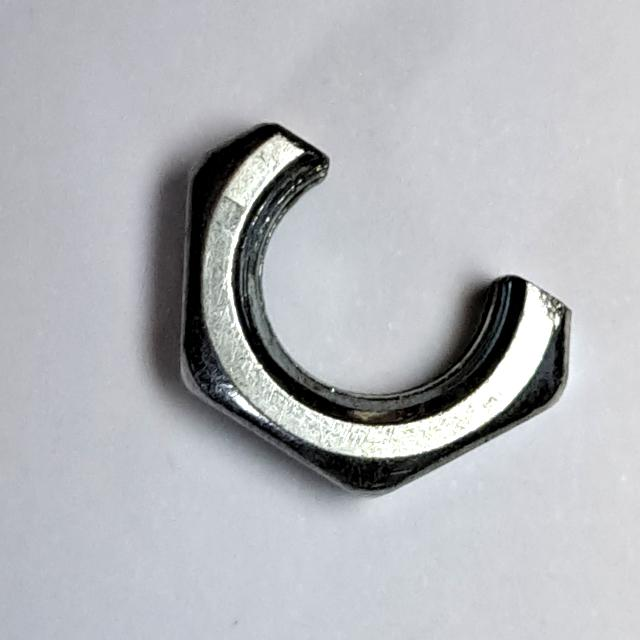Fracture: (166, 104, 598, 514)
